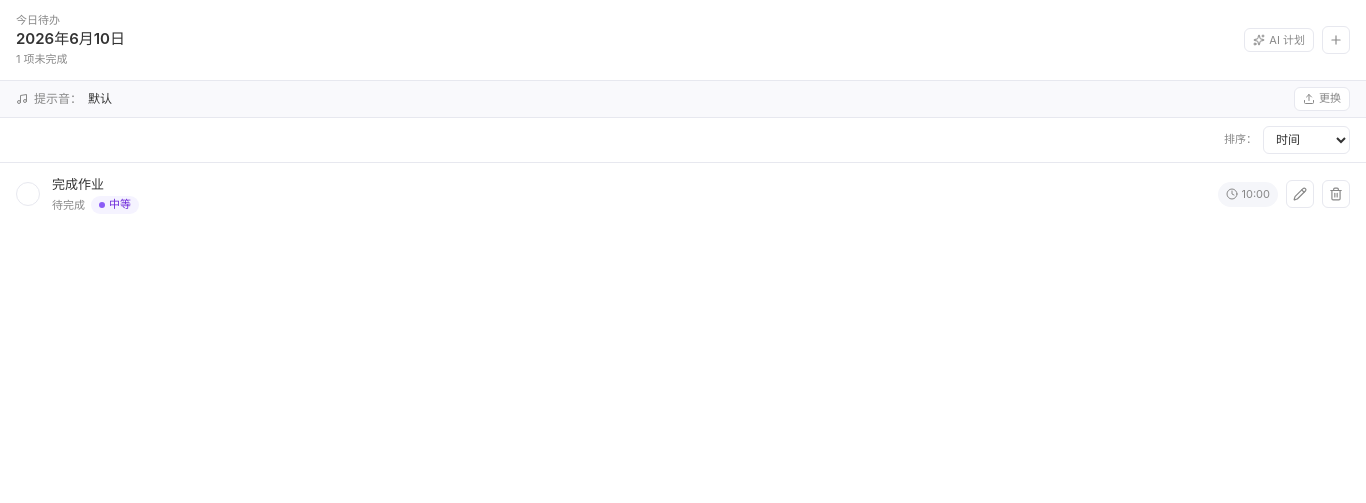
TodoPanel › uses the same top add form pattern as the reminder manager
Click the button named "添加待办" at (1336, 40), box [1322, 26, 1350, 54]
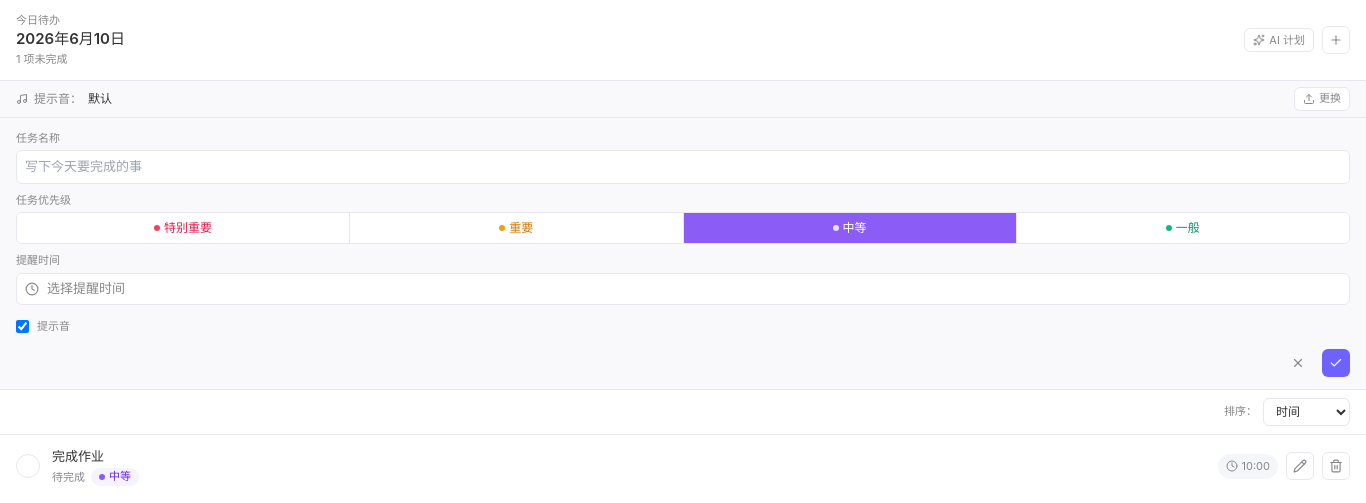
Result: the element with test id "todo-reminder-time-field" is shown at [16, 273, 1350, 305]
